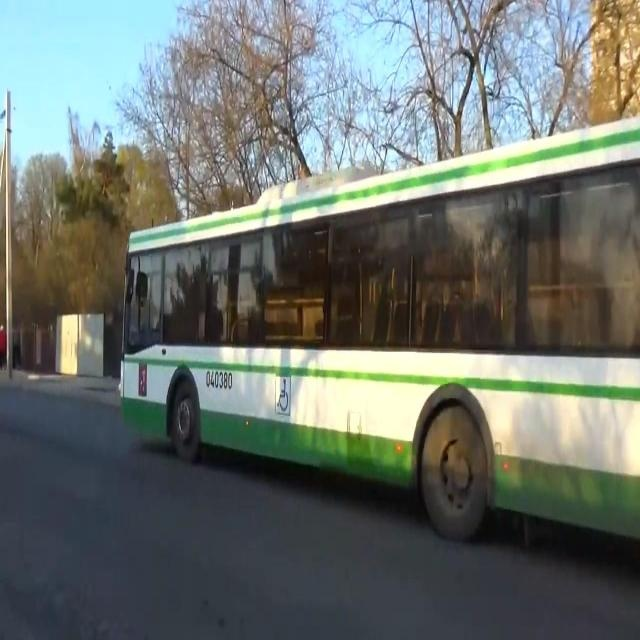Bus: (111, 112, 640, 575)
